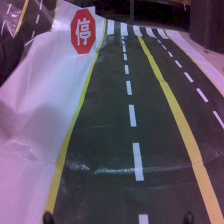stop: (70, 5, 97, 57)
